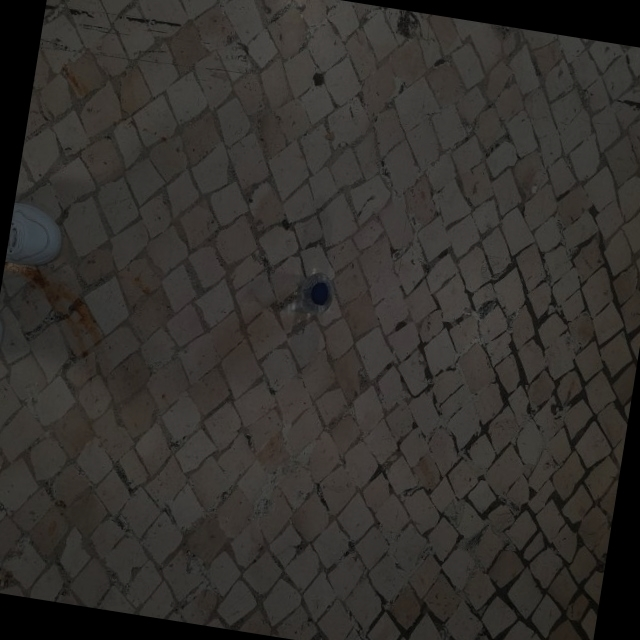Plastic-bottle: (289, 270, 334, 322)
